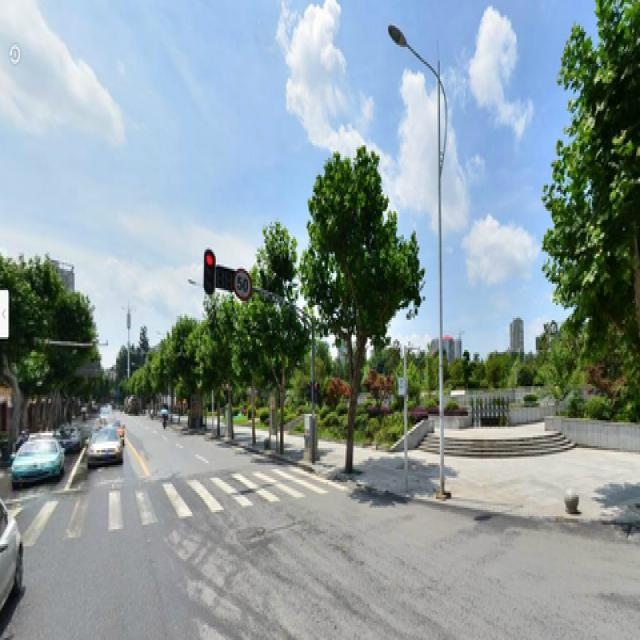meta: (313, 158, 416, 459)
